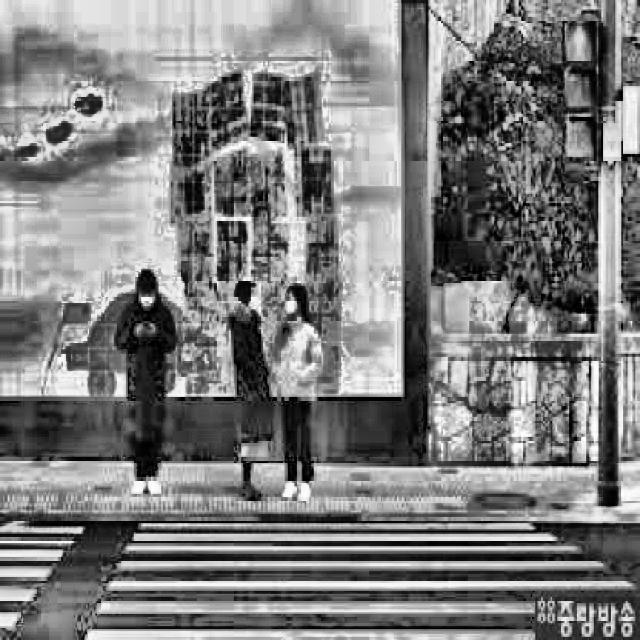semaforo pedestre: (542, 13, 616, 192)
